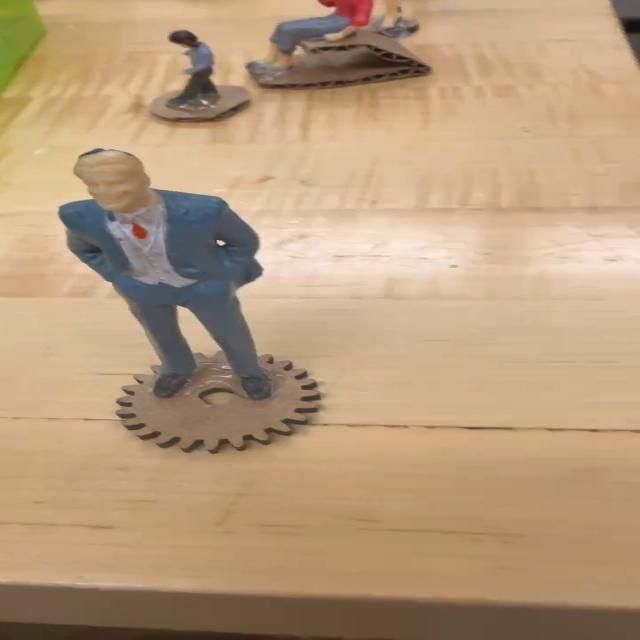Authorized: (39, 147, 289, 407)
